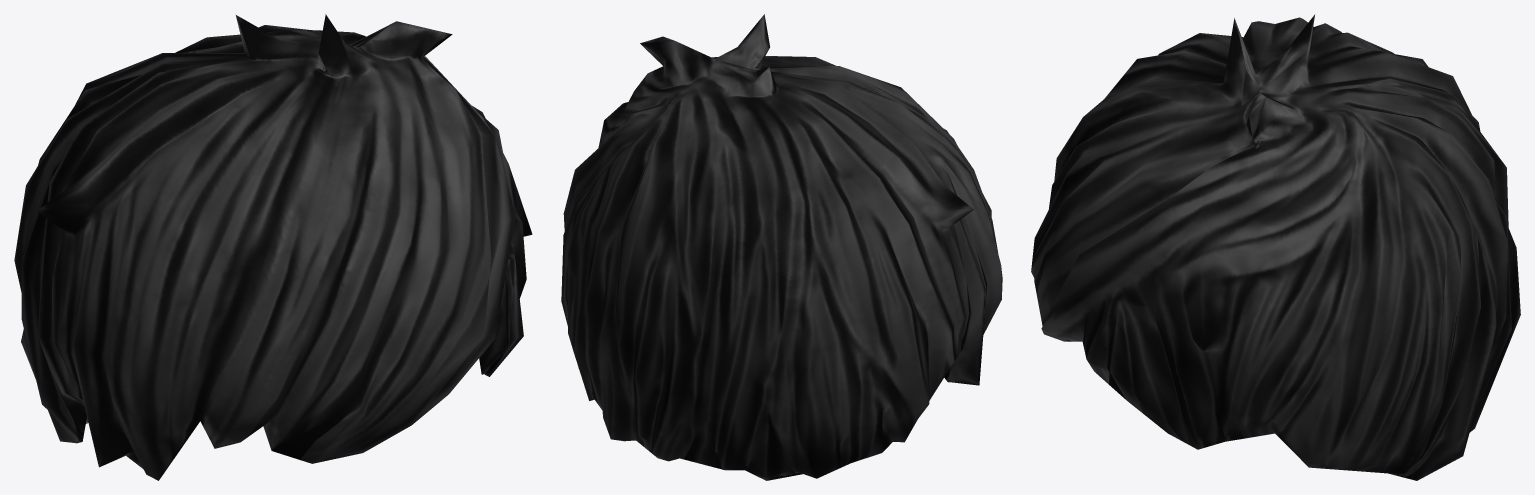
Rendered from AF_M_hair_16.fbx.
The picture shows the model from 3 angles, left to right: view 1: azimuth 30°, elevation 25°; view 2: azimuth 150°, elevation 25°; view 3: azimuth 270°, elevation 25°; orthographic projection. The views are drawn at different scales.
Visible parts, largest first — view 1: AF_M_hair_16; view 2: AF_M_hair_16; view 3: AF_M_hair_16.
Boxes of the visible parts, <box> form: AF_M_hair_16: <box>14,14,532,480</box>; AF_M_hair_16: <box>561,14,1002,480</box>; AF_M_hair_16: <box>1031,14,1520,480</box>.
Size of the model in its own units: 776 by 725 by 747.
